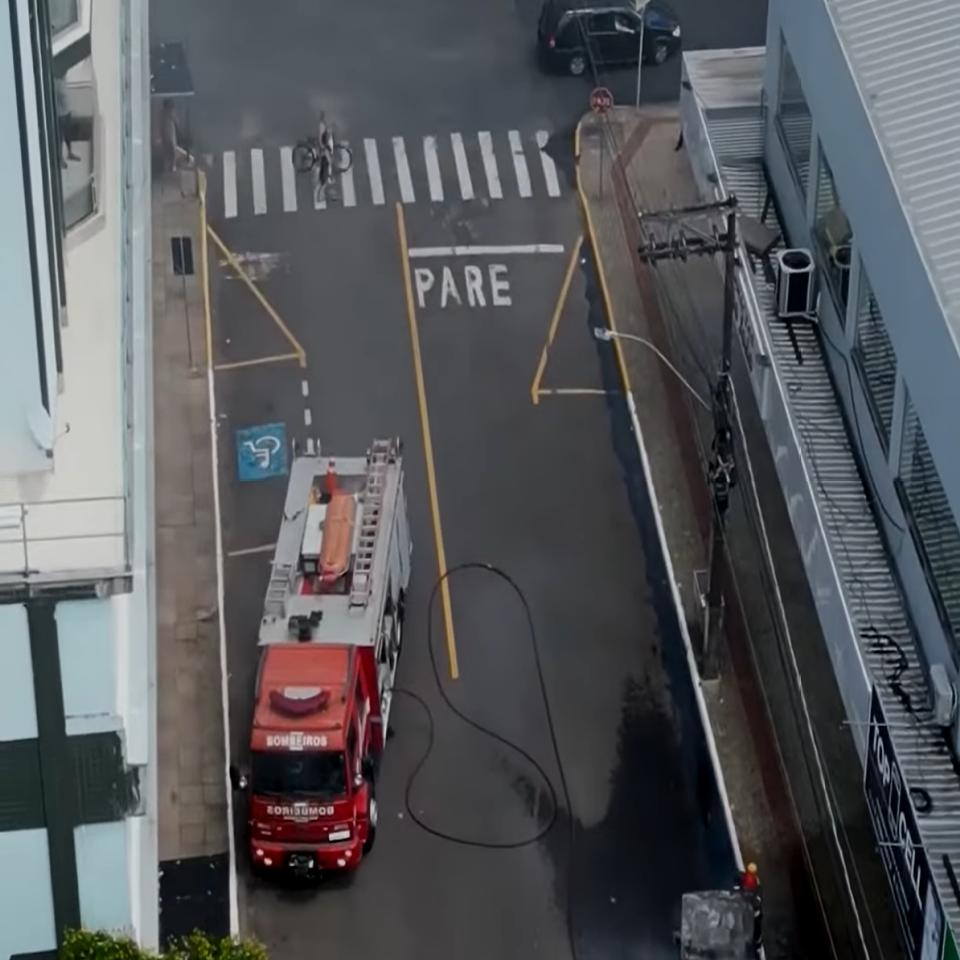bombeiro: (228, 438, 411, 883)
